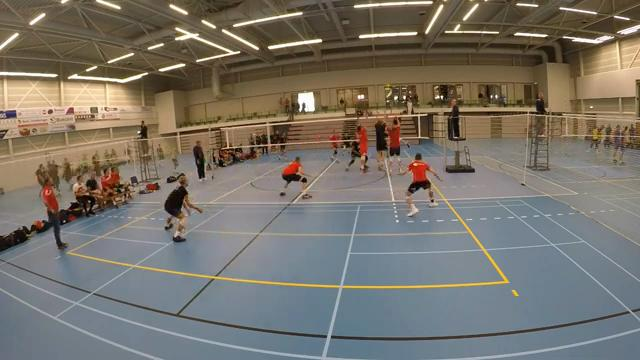Block: (383, 110, 407, 175), (351, 107, 372, 172), (370, 108, 389, 175)
Player: (401, 153, 441, 216), (164, 174, 201, 241), (280, 157, 311, 198), (345, 140, 360, 170), (330, 130, 339, 161)
ball: (384, 82, 390, 89)
